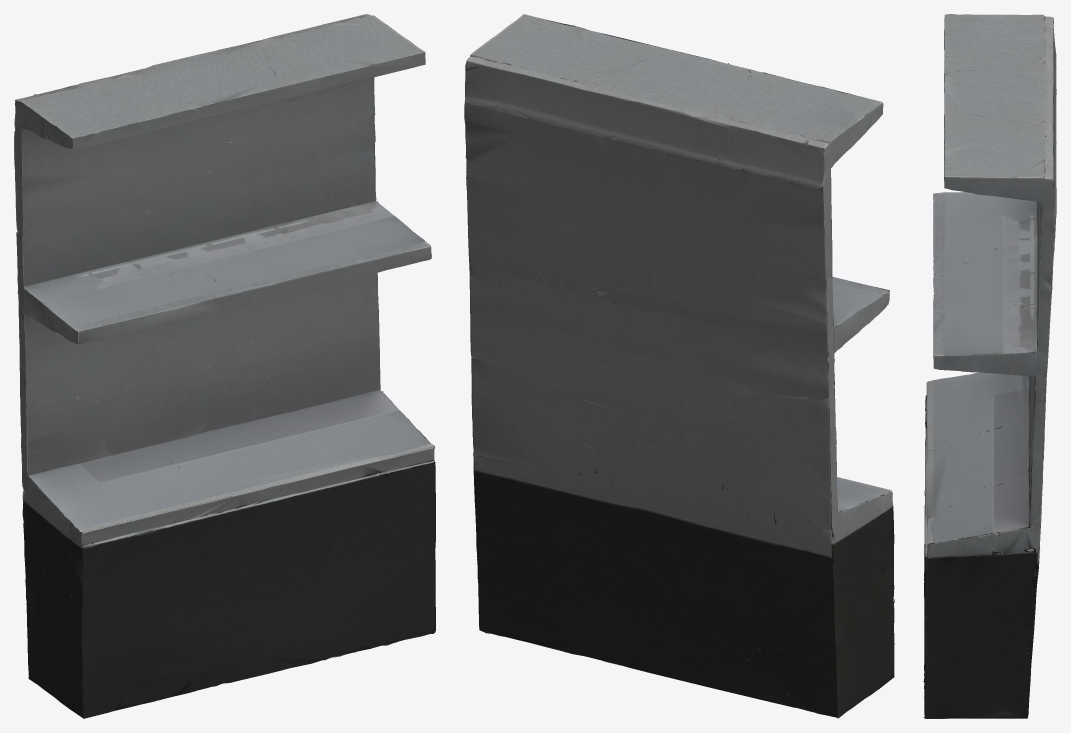
File: P_BasicWallShelf_h180.fbx
3 renders of one model, left to right at view 1: azimuth 30°, elevation 25°; view 2: azimuth 150°, elevation 25°; view 3: azimuth 270°, elevation 25°, orthographic. The views are drawn at different scales.
Visible parts, largest first — view 1: surface_7; view 2: surface_7; view 3: surface_7.
Boxes of the visible parts, <box> form: surface_7: <box>14,14,435,718</box>; surface_7: <box>464,14,894,718</box>; surface_7: <box>923,14,1056,718</box>.
Bounding box in the file's own units: 0.6479 × 0.9987 × 0.2224.
Materials: 1 (1 with a texture image).
